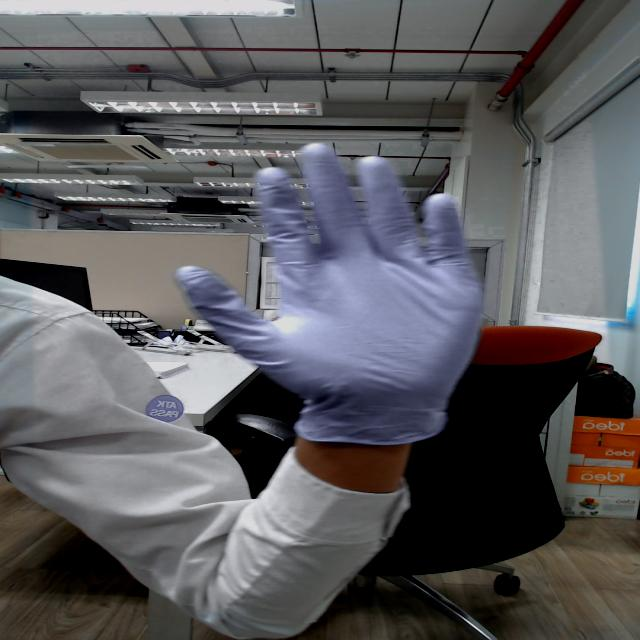glove: (164, 125, 494, 398)
